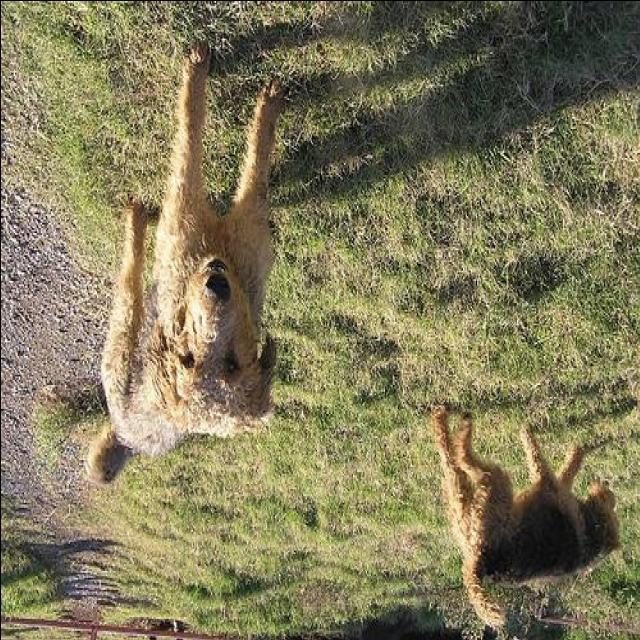airedale: (79, 42, 287, 484), (432, 408, 616, 634)
